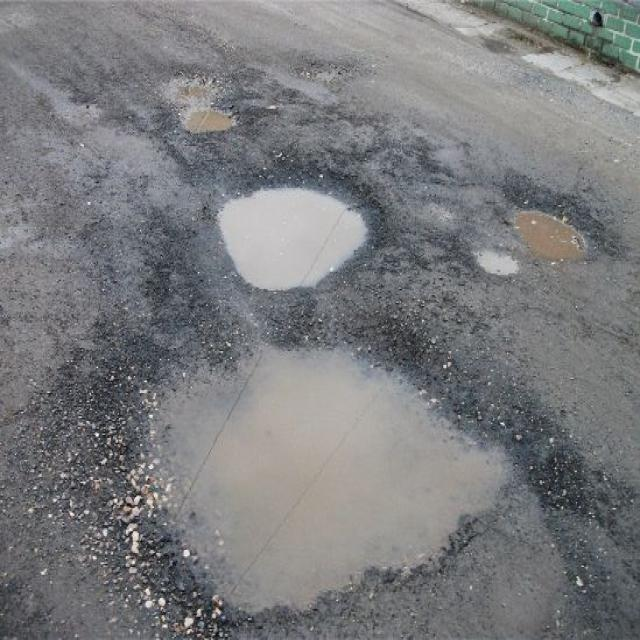pothole: (122, 322, 530, 624), (206, 166, 374, 297), (507, 192, 599, 262), (160, 70, 243, 138)
